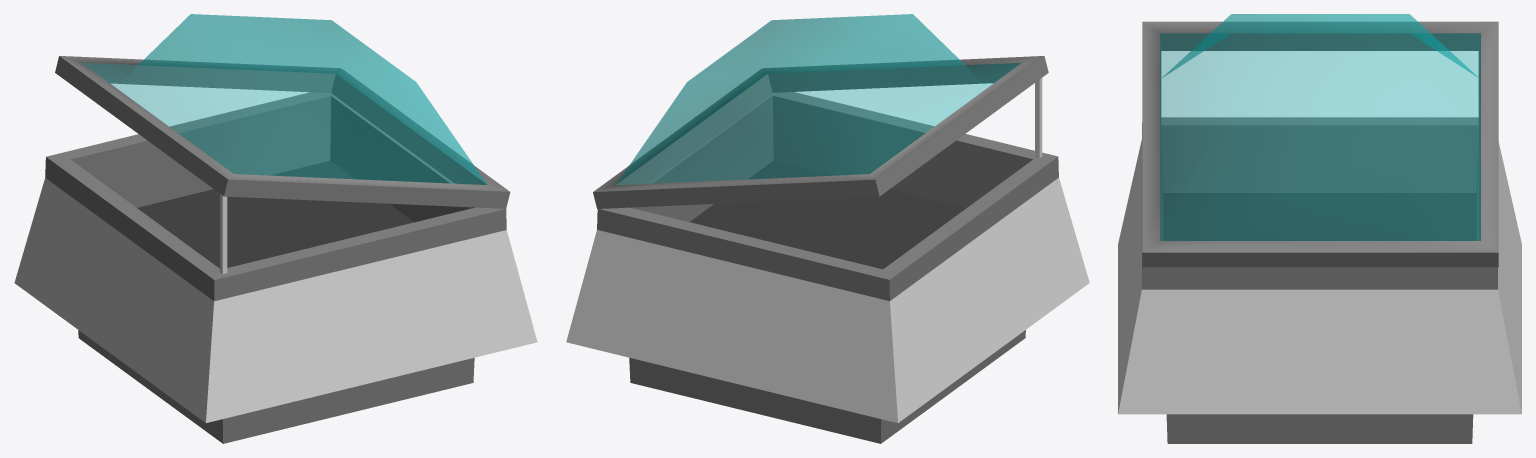
File: Prop_RoofLatch_Mod_01.fbx
3 renders of one model, left to right at view 1: azimuth 30°, elevation 25°; view 2: azimuth 150°, elevation 25°; view 3: azimuth 270°, elevation 25°, orthographic. The views are drawn at different scales.
Visible parts, largest first — view 1: RoofLatch; view 2: RoofLatch; view 3: RoofLatch.
Part boxes in pixels (x1,y1,x2,y2): RoofLatch: [14, 14, 537, 443]; RoofLatch: [566, 14, 1089, 443]; RoofLatch: [1118, 14, 1521, 443].
Size of the model in its own units: 1.16 by 1.09 by 1.16.
